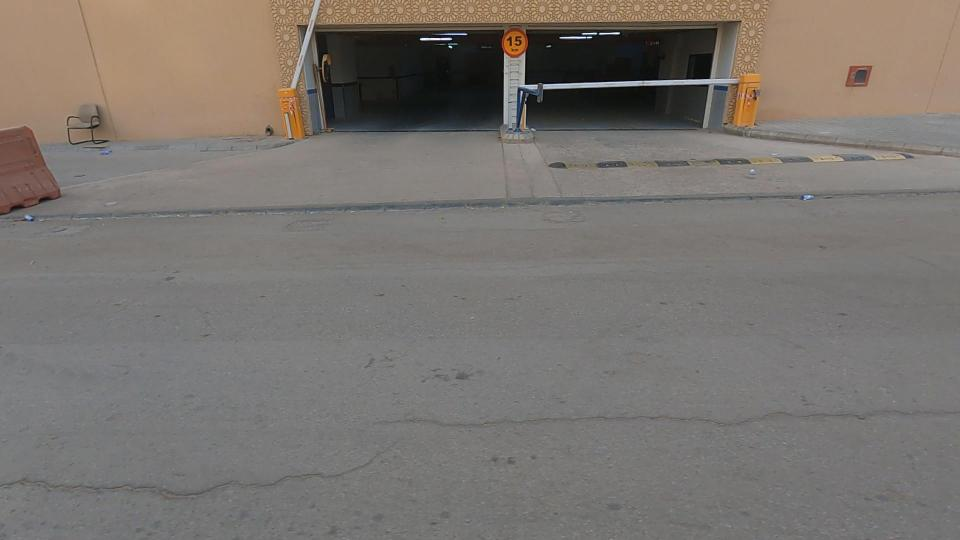GARBAGE: (0, 197, 72, 250), (61, 126, 133, 176)
